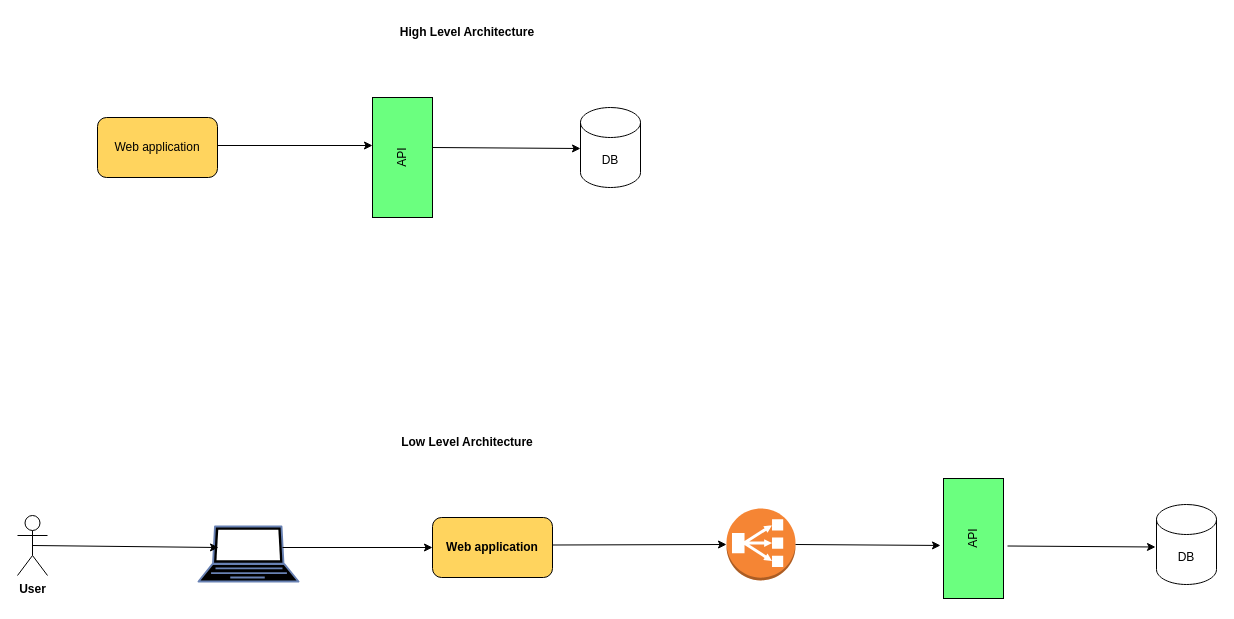
Some shapes in this 1234 by 619 pixel diagram are drawn without their labels. Each missing label, with the centre of its shape:
"Laptop" belongs at (248,553).
"Load balancer" belongs at (761,544).
